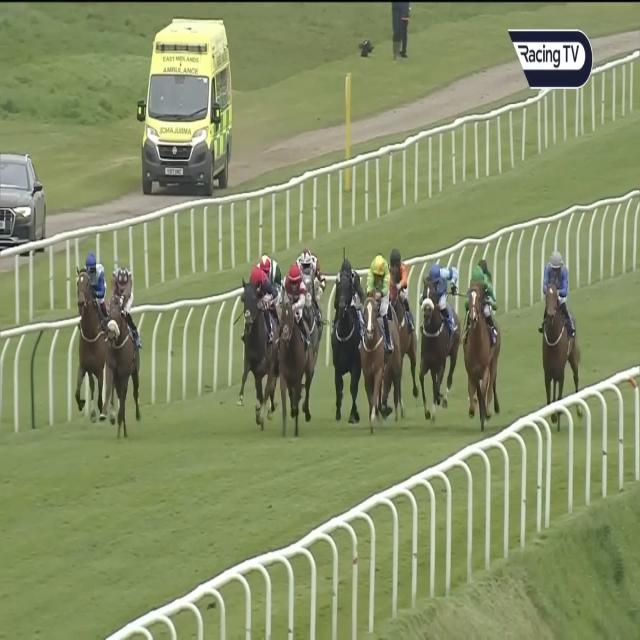horses-racing: (543, 246, 580, 412), (232, 264, 270, 399), (278, 261, 310, 418), (420, 258, 452, 411), (107, 266, 138, 420), (76, 254, 107, 406), (386, 246, 418, 393), (466, 262, 494, 422), (333, 250, 358, 417), (362, 255, 384, 423), (300, 244, 324, 314), (262, 251, 281, 283)
